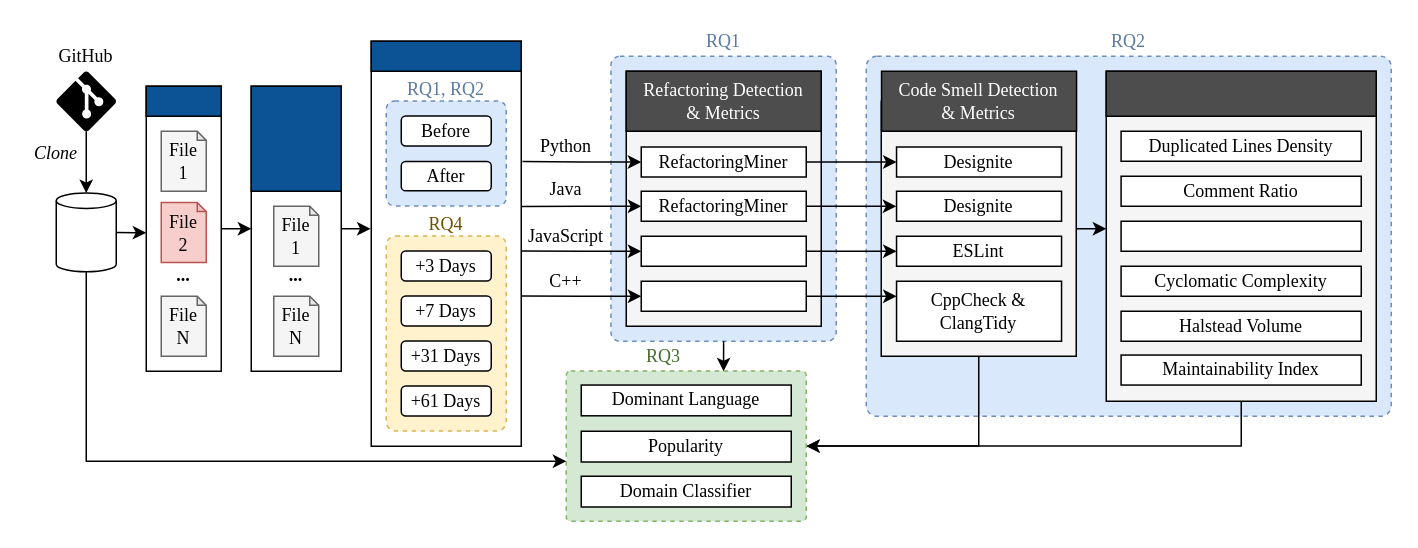
The diagram is 1418 pixels wide and 548 high, and some of its shapes have lost their labels. The shapes that lost their labels are listed below. From the top down, each one's box as (x1, y1, x2, y2) in pixels, then its label:
(370, 40, 521, 71): Get Snapshots
(145, 85, 221, 116): PR
(1105, 70, 1376, 116): Maintainability Metrics
(250, 85, 341, 191): Filter Dominant Language Files
(55, 192, 116, 272): Repo-sitory
(640, 235, 806, 266): RefDiff
(1120, 220, 1361, 251): Fan Out
(640, 280, 806, 311): RefactoringMiner++
